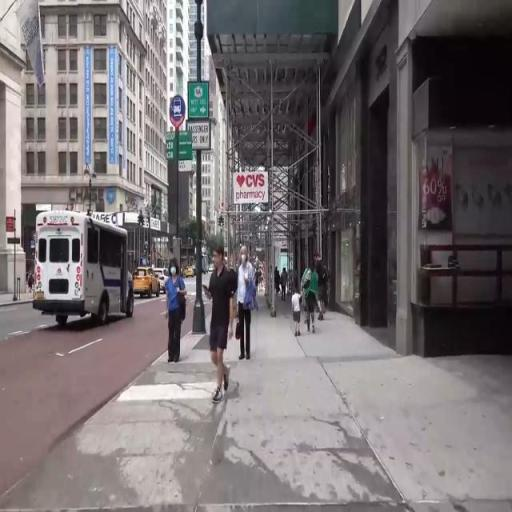person: (206, 243, 236, 414), (233, 241, 255, 375), (164, 252, 188, 368), (302, 258, 318, 339), (315, 249, 329, 318), (292, 289, 303, 342), (281, 264, 289, 304), (260, 263, 267, 297), (275, 265, 281, 300), (28, 268, 35, 296), (255, 265, 260, 296)
